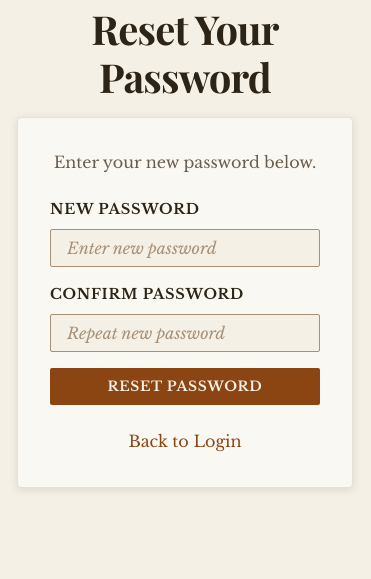
Scenario: PasswordResetConfirm › form validation › should show error when confirm password is empty
This screenshot has width=371, height=579.
Step 1. Type "validpassword123" into the password field labelled "New Password" → (185, 248), box [50,229,320,267]
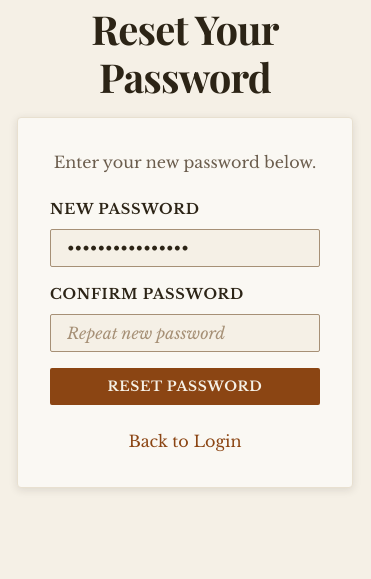
Step 2. Submit the form, box [50,198,320,405]
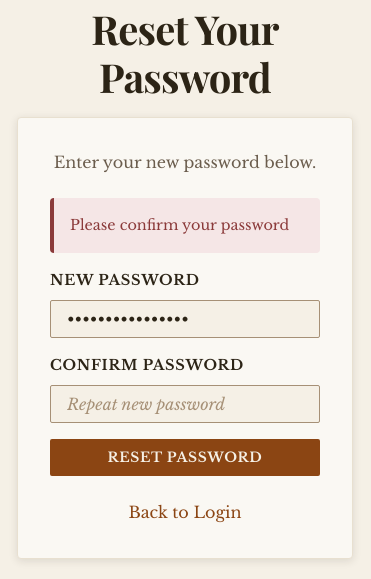
Now the text "Please confirm your password" is shown, box [50,198,320,253]
